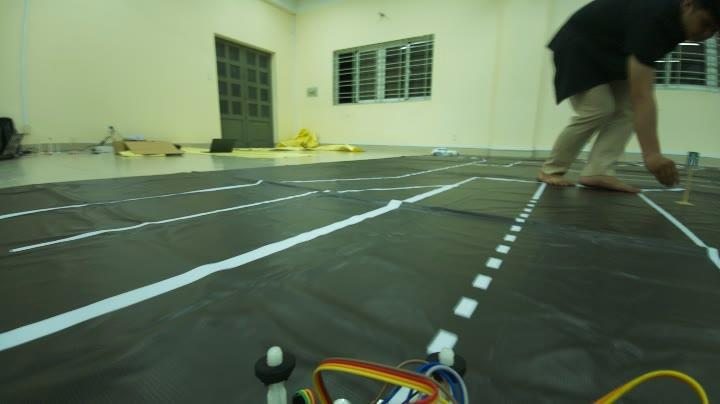highway_entry: (682, 148, 701, 172)
